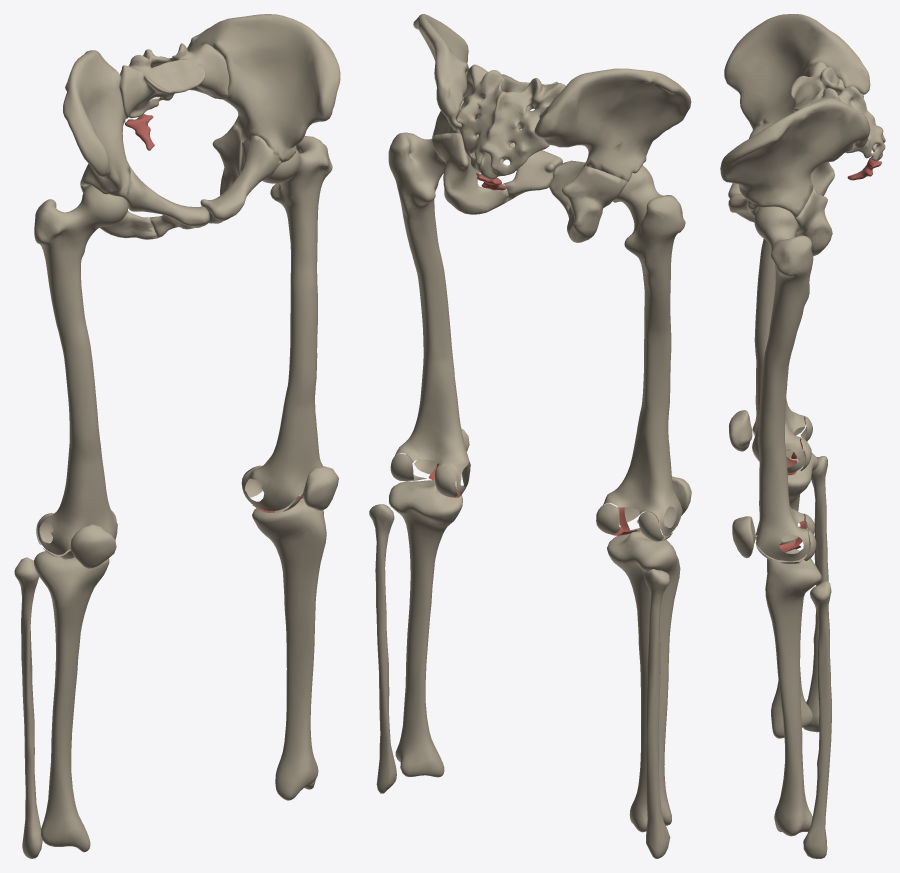
The model's file is adult_female.skeletal.LOD0.glb.
3 views of the same model, side by side, from view 1: azimuth 30°, elevation 25°; view 2: azimuth 150°, elevation 25°; view 3: azimuth 270°, elevation 25° (orthographic). The views are drawn at different scales.
Visible parts, largest first — view 1: ADULT.FEMALE.SKELETAL.FEMUR.R, ADULT.FEMALE.SKELETAL.FEMUR.L, ADULT.FEMALE.SKELETAL.ILIUM_COMPACT_BONE.L, ADULT.FEMALE.SKELETAL.TIBIA.L, ADULT.FEMALE.SKELETAL.TIBIA.R, ADULT.FEMALE.SKELETAL.ILIUM_COMPACT_BONE.R, ADULT.FEMALE.SKELETAL.SACRUM, ADULT.FEMALE.SKELETAL.FIBULA.R, ADULT.FEMALE.SKELETAL.PUBIS_COMPACT_BONE.L, ADULT.FEMALE.SKELETAL.PUBIS_COMPACT_BONE.R, ADULT.FEMALE.SKELETAL.PATELLA.R, ADULT.FEMALE.SKELETAL.PATELLA.L (+2 smaller); view 2: ADULT.FEMALE.SKELETAL.FEMUR.R, ADULT.FEMALE.SKELETAL.FEMUR.L, ADULT.FEMALE.SKELETAL.ILIUM_COMPACT_BONE.R, ADULT.FEMALE.SKELETAL.TIBIA.L, ADULT.FEMALE.SKELETAL.SACRUM, ADULT.FEMALE.SKELETAL.TIBIA.R, ADULT.FEMALE.SKELETAL.FIBULA.R, ADULT.FEMALE.SKELETAL.ILIUM_COMPACT_BONE.L, ADULT.FEMALE.SKELETAL.FIBULA.L, ADULT.FEMALE.SKELETAL.ISCHIUM_COMPACT_BONE.L, ADULT.FEMALE.SKELETAL.ISCHIUM_COMPACT_BONE.R, ADULT.FEMALE.SKELETAL.PUBIS_COMPACT_BONE.L (+2 smaller); view 3: ADULT.FEMALE.SKELETAL.FEMUR.L, ADULT.FEMALE.SKELETAL.ILIUM_COMPACT_BONE.L, ADULT.FEMALE.SKELETAL.ILIUM_COMPACT_BONE.R, ADULT.FEMALE.SKELETAL.TIBIA.L, ADULT.FEMALE.SKELETAL.FIBULA.L, ADULT.FEMALE.SKELETAL.FEMUR.R, ADULT.FEMALE.SKELETAL.SACRUM, ADULT.FEMALE.SKELETAL.FIBULA.R, ADULT.FEMALE.SKELETAL.TIBIA.R, ADULT.FEMALE.SKELETAL.ISCHIUM_COMPACT_BONE.L, ADULT.FEMALE.SKELETAL.PATELLA.L, ADULT.FEMALE.SKELETAL.PATELLA.R (+2 smaller).
Boxes of the visible parts, box(x1,y1,x2,y2) form: ADULT.FEMALE.SKELETAL.FEMUR.R: box(34, 185, 128, 554); ADULT.FEMALE.SKELETAL.FEMUR.L: box(242, 136, 332, 511); ADULT.FEMALE.SKELETAL.ILIUM_COMPACT_BONE.L: box(187, 14, 340, 162); ADULT.FEMALE.SKELETAL.TIBIA.L: box(252, 494, 326, 800); ADULT.FEMALE.SKELETAL.TIBIA.R: box(34, 551, 109, 852); ADULT.FEMALE.SKELETAL.ILIUM_COMPACT_BONE.R: box(63, 50, 130, 197); ADULT.FEMALE.SKELETAL.SACRUM: box(119, 43, 229, 118); ADULT.FEMALE.SKELETAL.FIBULA.R: box(14, 557, 42, 858); ADULT.FEMALE.SKELETAL.PUBIS_COMPACT_BONE.L: box(200, 135, 281, 223); ADULT.FEMALE.SKELETAL.PUBIS_COMPACT_BONE.R: box(124, 166, 209, 237); ADULT.FEMALE.SKELETAL.PATELLA.R: box(70, 524, 116, 568); ADULT.FEMALE.SKELETAL.PATELLA.L: box(302, 466, 338, 510); ADULT.FEMALE.SKELETAL.FEMUR.R: box(601, 165, 685, 536); ADULT.FEMALE.SKELETAL.FEMUR.L: box(388, 132, 470, 494); ADULT.FEMALE.SKELETAL.ILIUM_COMPACT_BONE.R: box(534, 68, 691, 181); ADULT.FEMALE.SKELETAL.TIBIA.L: box(389, 480, 462, 777); ADULT.FEMALE.SKELETAL.SACRUM: box(456, 64, 565, 179); ADULT.FEMALE.SKELETAL.TIBIA.R: box(607, 528, 680, 832); ADULT.FEMALE.SKELETAL.FIBULA.R: box(644, 569, 670, 858); ADULT.FEMALE.SKELETAL.ILIUM_COMPACT_BONE.L: box(413, 14, 478, 135); ADULT.FEMALE.SKELETAL.FIBULA.L: box(369, 504, 396, 793); ADULT.FEMALE.SKELETAL.ISCHIUM_COMPACT_BONE.L: box(432, 133, 508, 214); ADULT.FEMALE.SKELETAL.ISCHIUM_COMPACT_BONE.R: box(562, 166, 627, 242); ADULT.FEMALE.SKELETAL.PUBIS_COMPACT_BONE.L: box(476, 134, 562, 201); ADULT.FEMALE.SKELETAL.FEMUR.L: box(754, 206, 813, 561); ADULT.FEMALE.SKELETAL.ILIUM_COMPACT_BONE.L: box(720, 98, 870, 217); ADULT.FEMALE.SKELETAL.ILIUM_COMPACT_BONE.R: box(724, 14, 870, 129); ADULT.FEMALE.SKELETAL.TIBIA.L: box(765, 549, 821, 836); ADULT.FEMALE.SKELETAL.FIBULA.L: box(803, 581, 831, 858); ADULT.FEMALE.SKELETAL.FEMUR.R: box(752, 239, 805, 473); ADULT.FEMALE.SKELETAL.SACRUM: box(790, 61, 885, 160); ADULT.FEMALE.SKELETAL.FIBULA.R: box(803, 456, 828, 732); ADULT.FEMALE.SKELETAL.TIBIA.R: box(771, 448, 818, 738); ADULT.FEMALE.SKELETAL.ISCHIUM_COMPACT_BONE.L: box(794, 186, 832, 256); ADULT.FEMALE.SKELETAL.PATELLA.L: box(732, 516, 755, 558); ADULT.FEMALE.SKELETAL.PATELLA.R: box(729, 410, 752, 451).
Size of the model in its own units: 0.3598 by 0.8977 by 0.1827.
